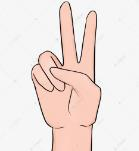front: (29, 1, 104, 129)
